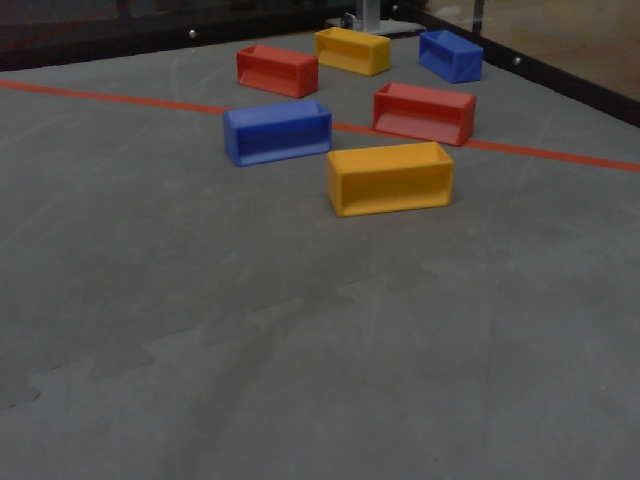BlueSample: (219, 98, 335, 164), (417, 23, 485, 86)
RedSample: (370, 80, 477, 149), (230, 42, 324, 102)
YellowSample: (325, 138, 454, 217), (311, 26, 394, 76)
